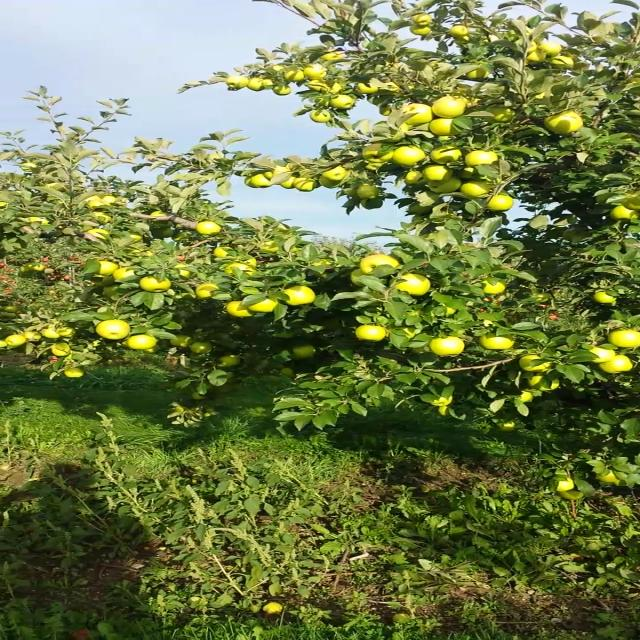apple: (544, 111, 583, 133), (396, 273, 428, 295), (359, 255, 399, 272), (428, 145, 461, 164), (434, 97, 465, 117), (224, 258, 255, 278), (98, 320, 127, 340), (393, 146, 422, 166), (466, 150, 498, 168), (431, 337, 462, 355), (600, 356, 631, 374), (405, 104, 431, 125), (285, 286, 315, 304), (480, 333, 513, 349), (608, 329, 638, 346), (364, 144, 392, 162), (430, 119, 460, 135), (140, 276, 170, 292), (429, 178, 459, 194), (356, 325, 386, 341), (424, 165, 452, 182), (85, 196, 116, 211), (124, 334, 154, 349), (530, 376, 558, 392), (521, 355, 549, 371), (462, 182, 491, 197), (486, 106, 513, 122), (351, 268, 372, 288), (113, 266, 139, 282), (487, 194, 512, 210), (588, 347, 614, 362), (612, 206, 636, 221), (228, 302, 252, 317), (290, 178, 314, 192), (249, 299, 276, 311), (197, 221, 220, 235), (197, 284, 219, 298), (406, 171, 428, 185), (330, 94, 351, 108), (550, 56, 574, 68), (292, 346, 316, 358), (482, 280, 506, 292), (305, 65, 325, 79), (226, 76, 249, 88), (622, 194, 639, 210), (173, 264, 190, 280), (596, 470, 618, 482), (319, 176, 341, 188), (411, 14, 431, 27), (251, 172, 271, 185), (527, 50, 545, 64), (541, 42, 559, 56), (98, 261, 116, 275), (190, 342, 211, 354), (594, 292, 616, 303), (321, 51, 345, 61), (309, 110, 329, 122), (323, 167, 343, 179), (257, 240, 277, 252), (245, 78, 263, 91), (218, 355, 239, 366), (284, 70, 304, 81), (86, 230, 108, 240), (20, 264, 42, 274), (312, 258, 334, 268), (28, 217, 52, 226), (467, 68, 488, 78), (449, 25, 466, 37), (280, 176, 297, 188), (359, 186, 376, 198), (358, 83, 378, 93), (411, 25, 431, 35), (92, 212, 112, 222), (6, 335, 26, 345), (531, 291, 551, 301), (558, 478, 574, 490), (171, 336, 190, 346), (273, 85, 291, 95), (308, 80, 326, 90), (41, 328, 59, 338), (50, 346, 68, 356), (362, 199, 382, 208), (431, 397, 453, 405), (560, 490, 581, 498), (461, 168, 476, 179), (436, 406, 454, 415), (20, 162, 36, 172), (498, 422, 514, 432), (57, 328, 75, 336), (65, 369, 83, 377), (520, 392, 532, 404), (143, 345, 161, 353), (24, 332, 40, 340), (366, 163, 382, 171), (215, 248, 229, 257), (380, 105, 392, 115), (161, 228, 173, 238), (445, 308, 457, 318), (262, 80, 276, 88), (328, 83, 339, 93), (244, 177, 255, 187), (130, 233, 143, 241), (527, 40, 534, 52), (172, 236, 184, 242), (150, 212, 166, 216), (266, 173, 273, 179), (0, 342, 6, 348), (1, 202, 10, 206)
